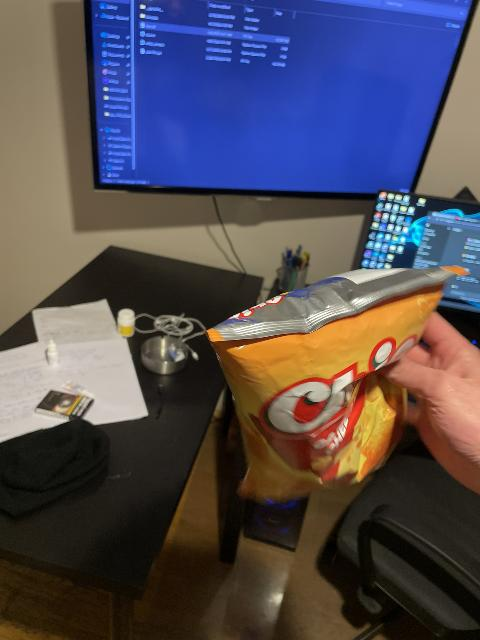Chio Cascaval 125g: (204, 264, 468, 502)
